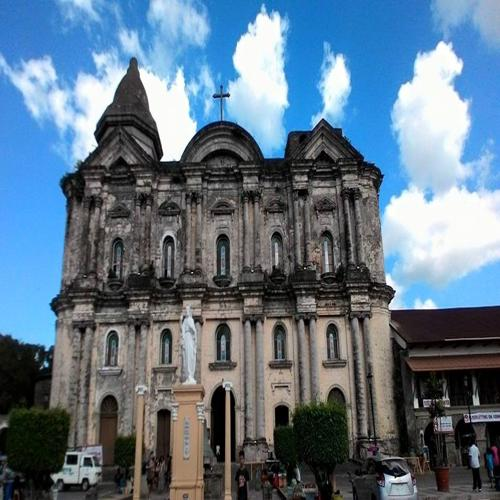Taal Basilica Church: (52, 41, 402, 466)
